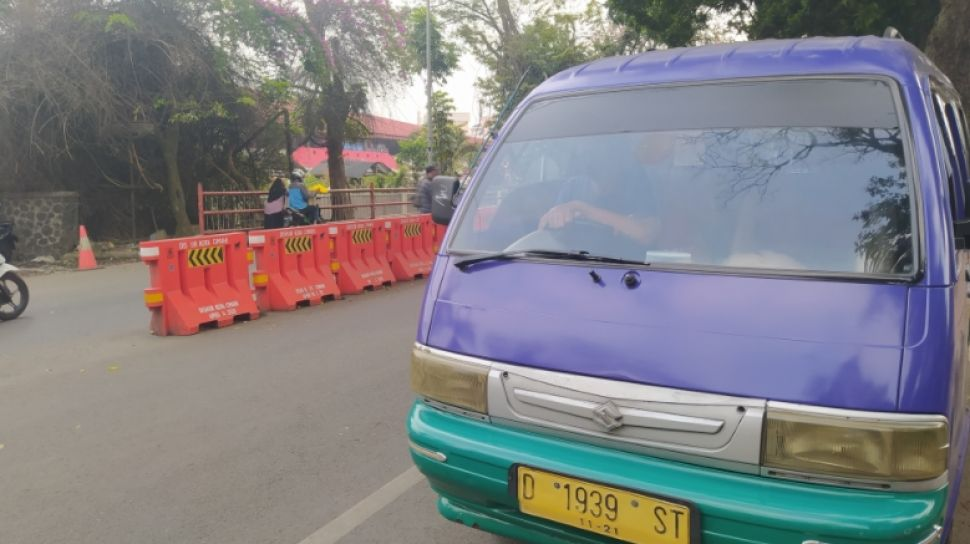plat nomor: (510, 461, 692, 544)
